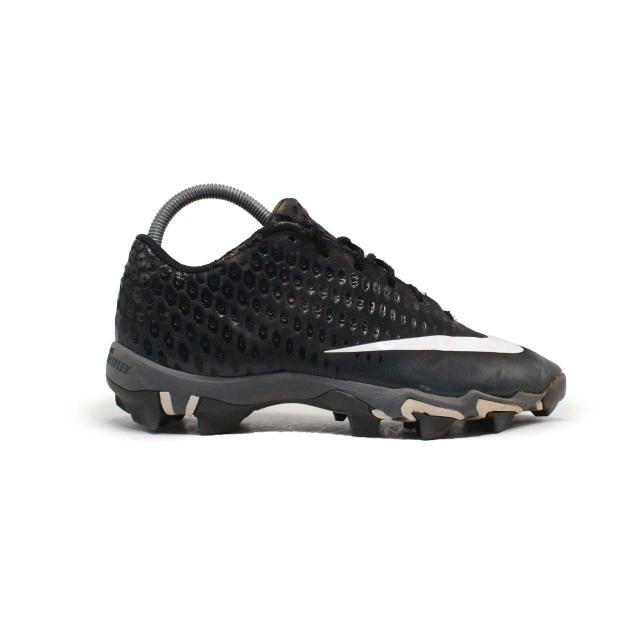heel: (114, 236, 155, 354)
midsole: (104, 340, 563, 436)
uppersole: (144, 196, 559, 398)
